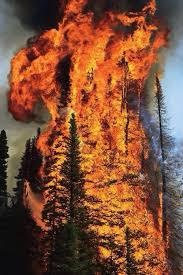fire: (9, 0, 165, 209)
